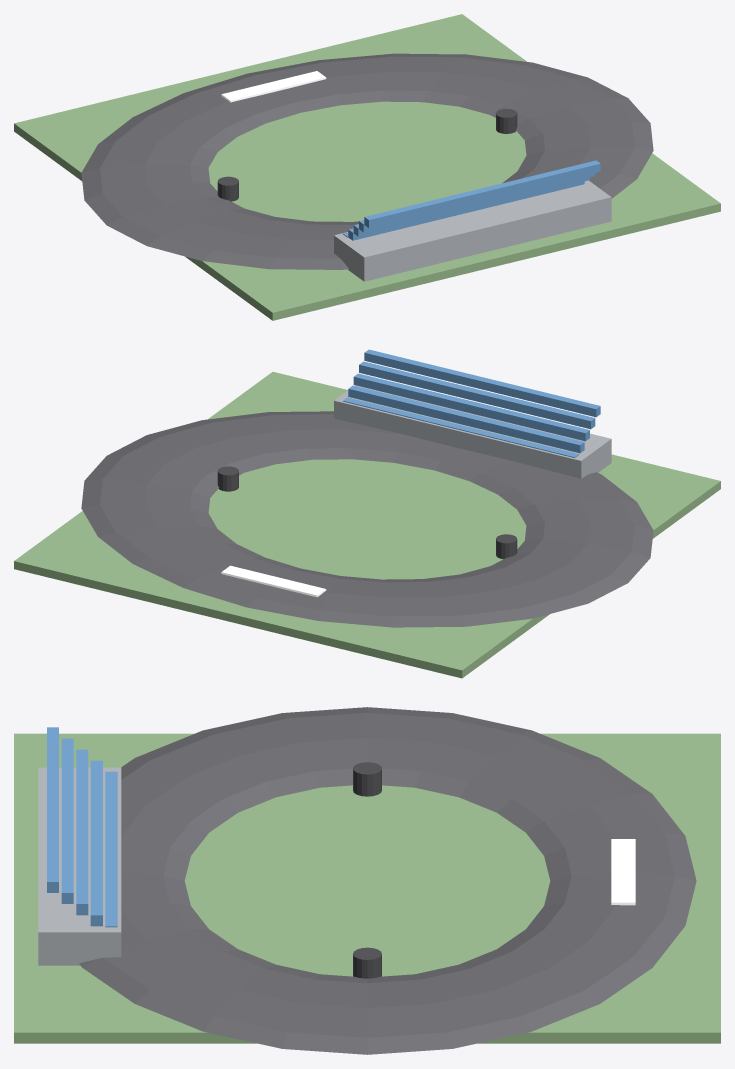
File: race_track.glb
3 views of the same model, one above another, from view 1: azimuth 30°, elevation 25°; view 2: azimuth 150°, elevation 25°; view 3: azimuth 270°, elevation 25° (orthographic). The views are drawn at different scales.
Visible parts, largest first — view 1: race_track; view 2: race_track; view 3: race_track.
Part boxes in pixels (bbox=[...]): race_track: bbox=[14, 14, 720, 320]; race_track: bbox=[14, 349, 720, 678]; race_track: bbox=[14, 707, 720, 1054].
Size of the model in its own units: 3.37 by 0.405 by 2.9.
